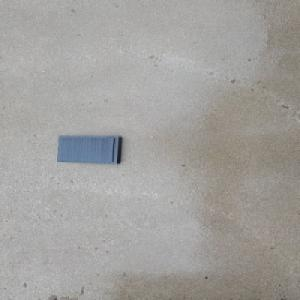PlasticPart: (53, 135, 123, 164)
